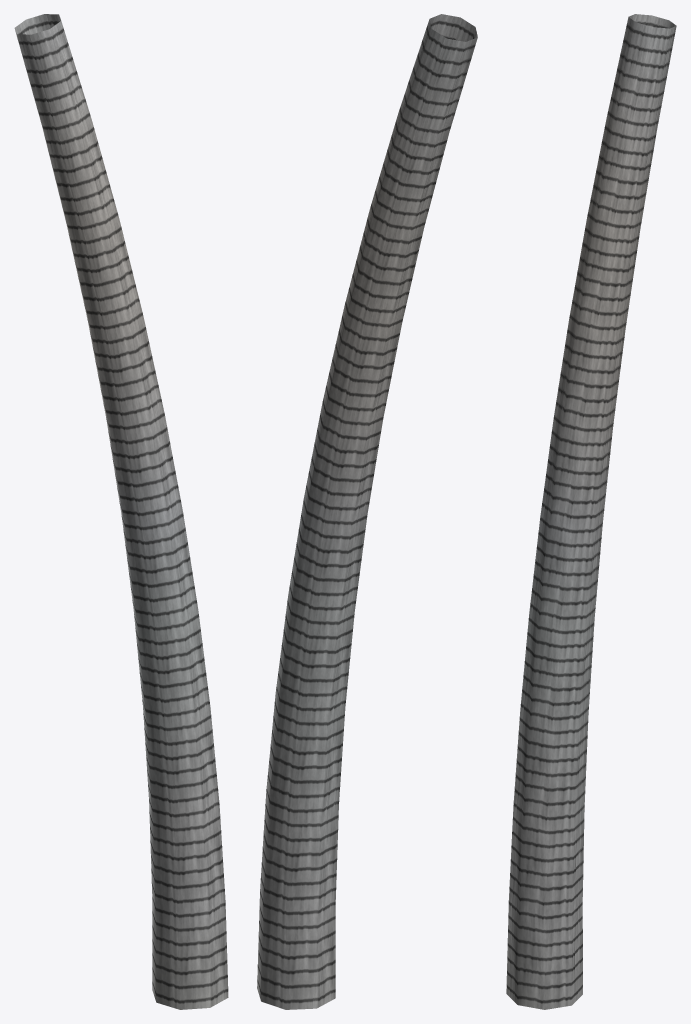
File: palm_bark_l0.gltf
The picture shows the model from 3 angles, left to right: view 1: azimuth 30°, elevation 25°; view 2: azimuth 210°, elevation 25°; view 3: azimuth 270°, elevation 25°; orthographic projection. The views are drawn at different scales.
Parts seen in each view (by area): view 1: palm_bark_l0; view 2: palm_bark_l0; view 3: palm_bark_l0.
Boxes of the visible parts, <box> form: palm_bark_l0: <box>14,14,228,1009</box>; palm_bark_l0: <box>257,14,477,1009</box>; palm_bark_l0: <box>506,14,676,1009</box>.
Size of the model in its own units: 1.34 by 8.06 by 1.33.
Materials: 1 (1 with a texture image).
